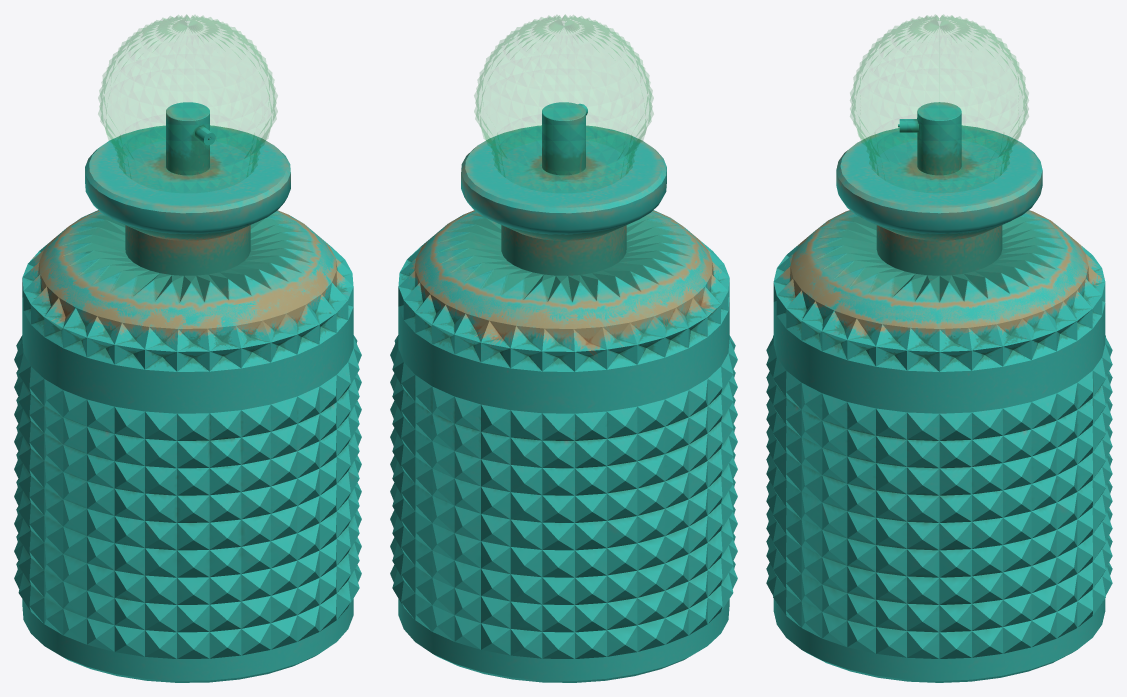
File: perfume.gltf
3 renders of one model, left to right at view 1: azimuth 30°, elevation 25°; view 2: azimuth 150°, elevation 25°; view 3: azimuth 270°, elevation 25°, orthographic.
Visible parts, largest first — view 1: Cylinder, Sphere; view 2: Cylinder, Sphere; view 3: Cylinder, Sphere.
Part boxes in pixels (bbox=[...]): Cylinder: bbox=[14, 102, 361, 682]; Sphere: bbox=[98, 14, 277, 178]; Cylinder: bbox=[390, 102, 737, 682]; Sphere: bbox=[474, 14, 653, 178]; Cylinder: bbox=[766, 102, 1112, 682]; Sphere: bbox=[850, 15, 1028, 180].
Size of the model in its own units: 0.3874 by 0.7317 by 0.3874.
